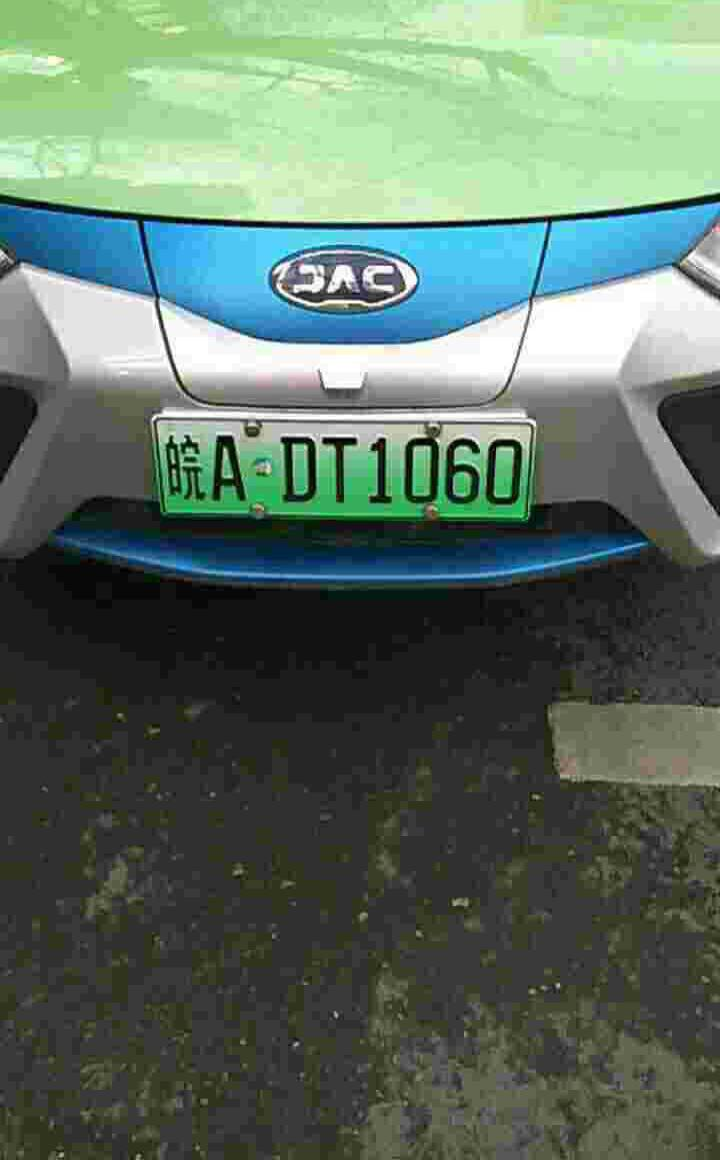car_id: (151, 419, 534, 517)
